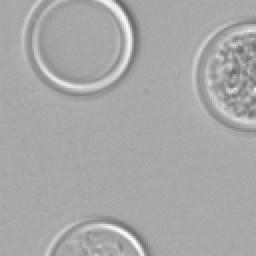picoshell: (20, 0, 136, 100), (190, 17, 256, 132), (40, 214, 149, 256)
